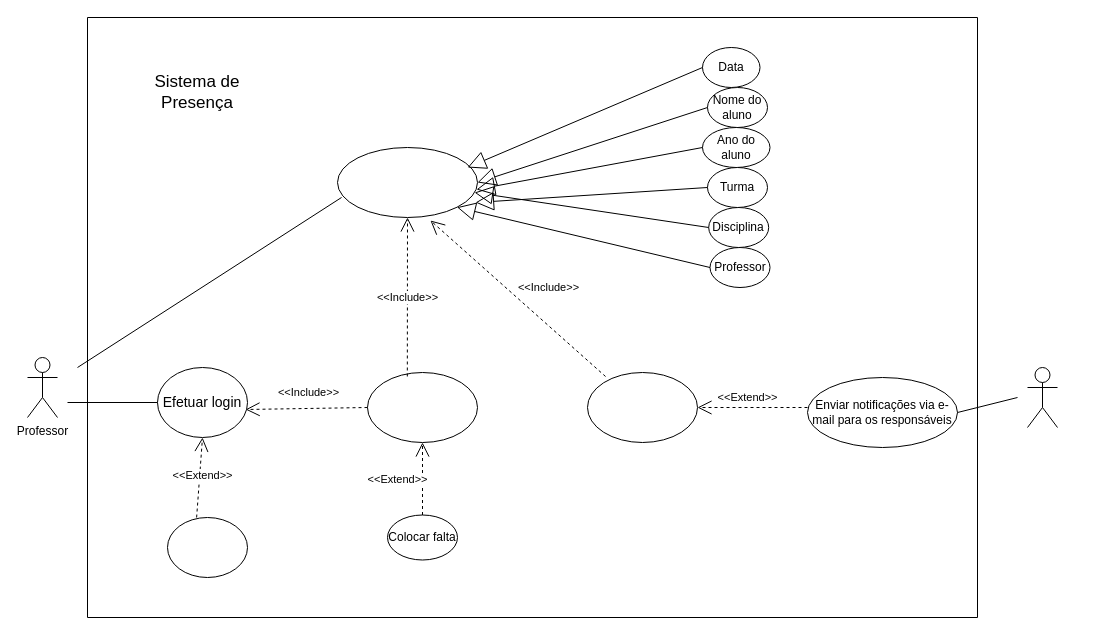
This 1097x636 diagram has some shape labels left out. Here are the shapes that lost their labels. From the top down, the centre of each, then its label:
At (x=407, y=182): "Gerar relatório de faltas".
At (x=422, y=407): "Fazer chamada".
At (x=642, y=407): "Porcentagem de faltas".
At (x=1042, y=397): "Pais e Responsaveis".
At (x=207, y=547): "Alterar senha".
